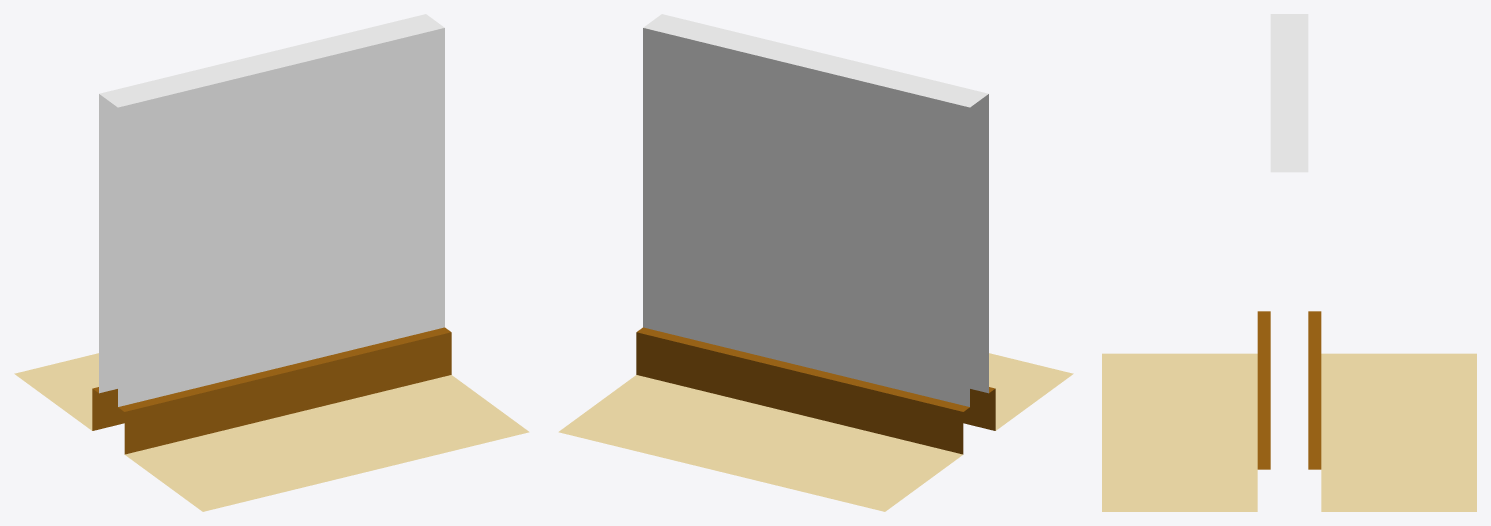
The model's file is I_Wall_Straight.fbx.
3 views of the same model, side by side, from view 1: azimuth 30°, elevation 25°; view 2: azimuth 150°, elevation 25°; view 3: azimuth 270°, elevation 25° (orthographic).
Parts seen in each view (by area): view 1: I_Wall_Straight; view 2: I_Wall_Straight; view 3: I_Wall_Straight.
Boxes of the visible parts, x1,y1,x2,y2 form: I_Wall_Straight: [14, 14, 529, 511]; I_Wall_Straight: [558, 14, 1073, 511]; I_Wall_Straight: [1102, 14, 1476, 511].
Size of the model in its own units: 200 by 200 by 200.
1 material, 1 textured.
